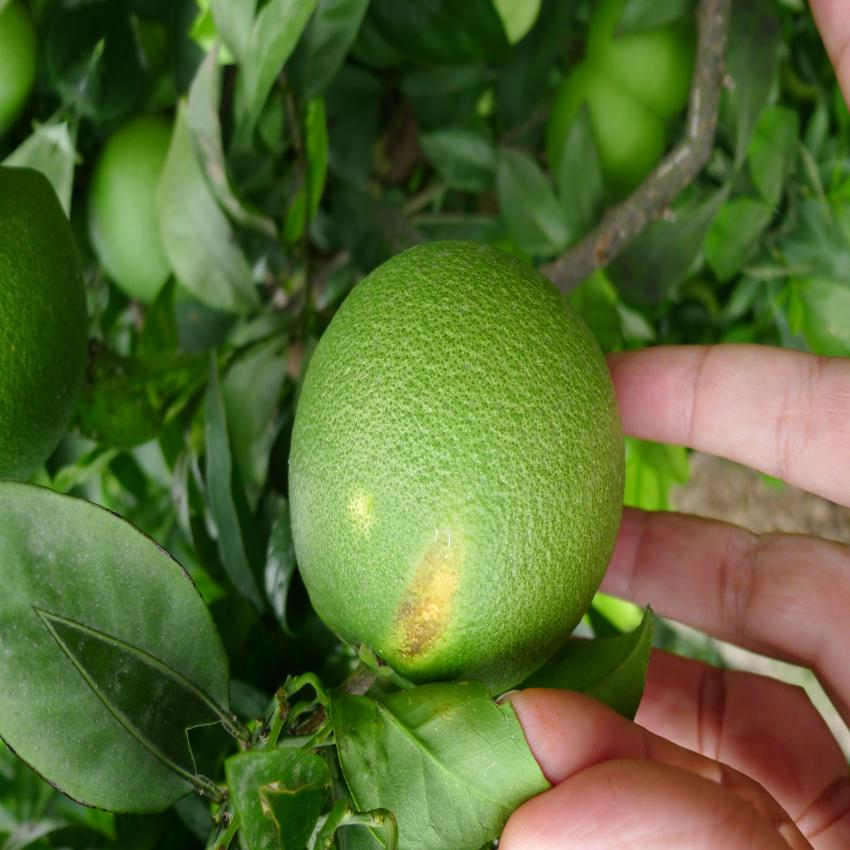Mal estado: (275, 216, 649, 690)
